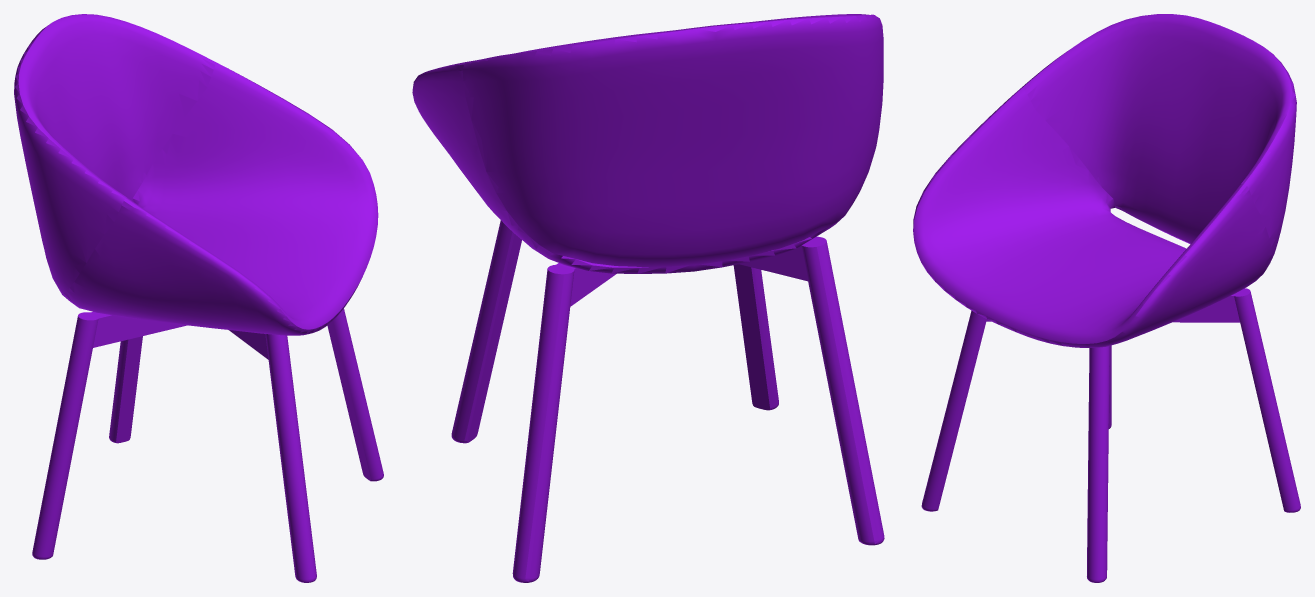
File: silla.fbx
The picture shows the model from 3 angles, left to right: view 1: azimuth 30°, elevation 25°; view 2: azimuth 150°, elevation 25°; view 3: azimuth 270°, elevation 25°; orthographic projection. The views are drawn at different scales.
Visible parts, largest first — view 1: Object001, Object002; view 2: Object001, Object002; view 3: Object001, Object002.
Boxes of the visible parts, x1,y1,x2,y2 form: Object001: (14, 14, 378, 335); Object002: (32, 308, 383, 582); Object001: (412, 14, 883, 274); Object002: (451, 220, 884, 582); Object001: (913, 14, 1296, 347); Object002: (921, 288, 1300, 582).
Bounding box in the file's own units: 173 × 209 × 173.
